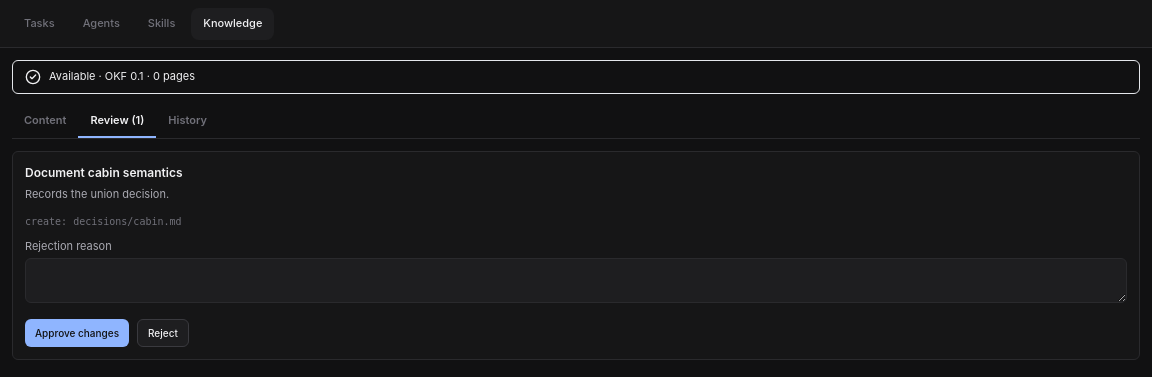
Test: TasksPanel rendering › submits a trimmed rejection reason and removes the reviewed proposal
Type "  Superseded by ADR-42.  " into the text box named "Rejection reason for Document cabin semantics". click: (576, 281)
box: [25,258,1127,303]
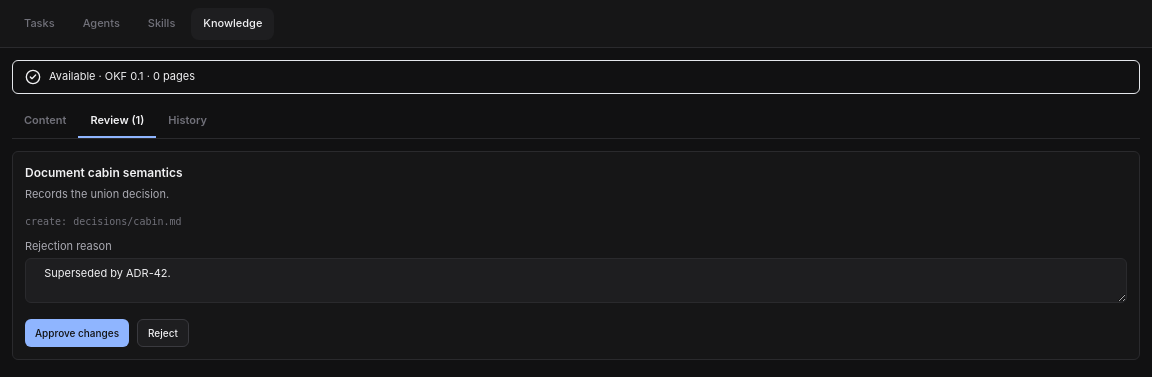
Click the button "Reject". click: click(163, 333)
box: [137,319,189,347]
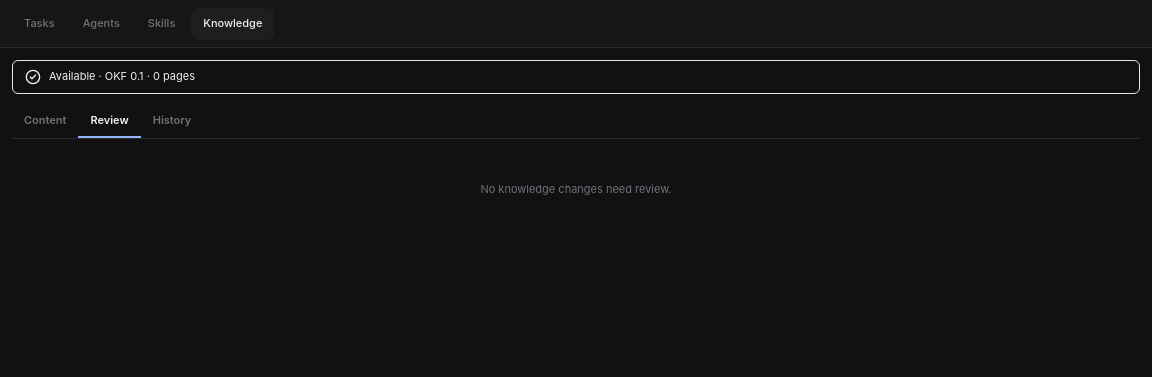
Expected: the heading "Document cabin semantics" is gone
